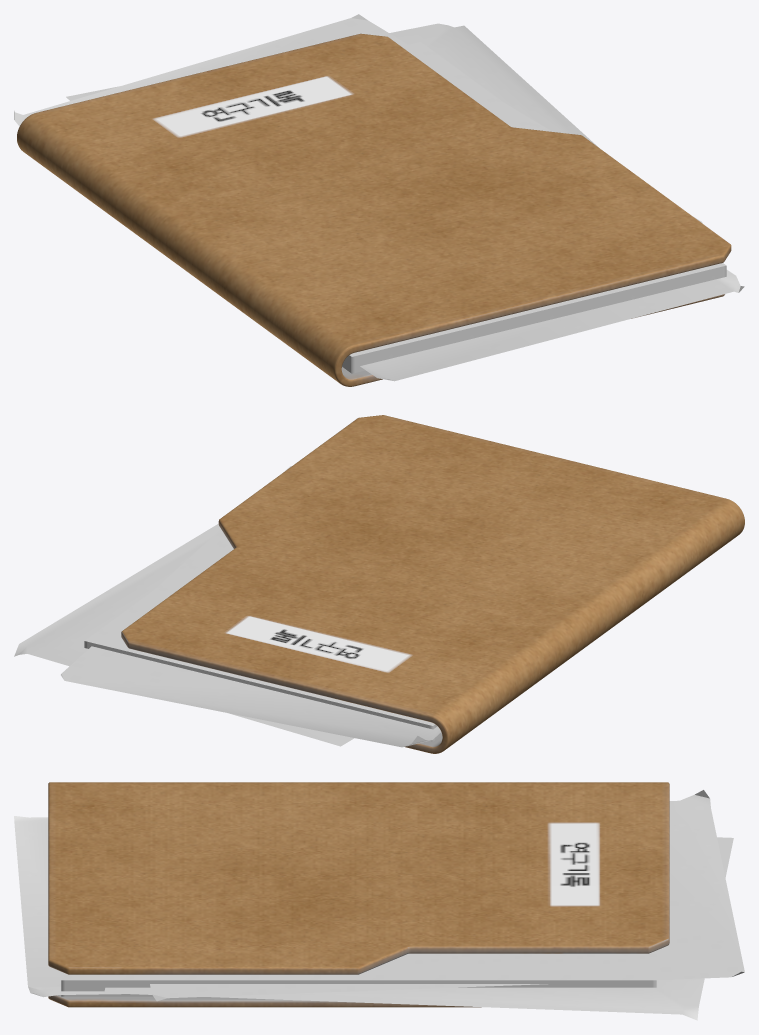
File: SM_Prop_Clue_ResearchFile.fbx
The picture shows the model from 3 angles, top to bottom: view 1: azimuth 30°, elevation 25°; view 2: azimuth 150°, elevation 25°; view 3: azimuth 270°, elevation 25°; orthographic projection. The views are drawn at different scales.
Visible parts, largest first — view 1: SM_Prop_Clue_ResearchFile; view 2: SM_Prop_Clue_ResearchFile; view 3: SM_Prop_Clue_ResearchFile.
Boxes of the visible parts, left/top/right/bottom form: SM_Prop_Clue_ResearchFile: left=14, top=14, right=744, bottom=386; SM_Prop_Clue_ResearchFile: left=14, top=415, right=744, bottom=753; SM_Prop_Clue_ResearchFile: left=14, top=782, right=744, bottom=1020.
Size of the model in its own units: 30.49 by 2.63 by 43.63.
1 material, 1 textured.
